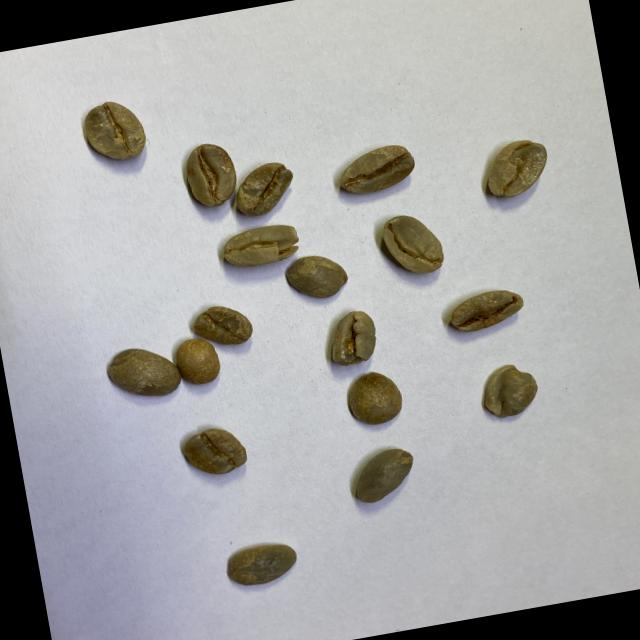bad: (377, 208, 448, 282), (479, 134, 554, 202), (214, 219, 304, 273), (475, 358, 543, 423), (446, 285, 528, 335), (190, 298, 256, 352), (322, 307, 382, 366)
good: (78, 94, 150, 168), (105, 340, 184, 406), (334, 138, 418, 199), (180, 138, 242, 211), (228, 157, 298, 220), (222, 536, 302, 591), (350, 445, 420, 504), (282, 248, 352, 306), (179, 422, 251, 478), (342, 366, 406, 428), (170, 332, 223, 388)
